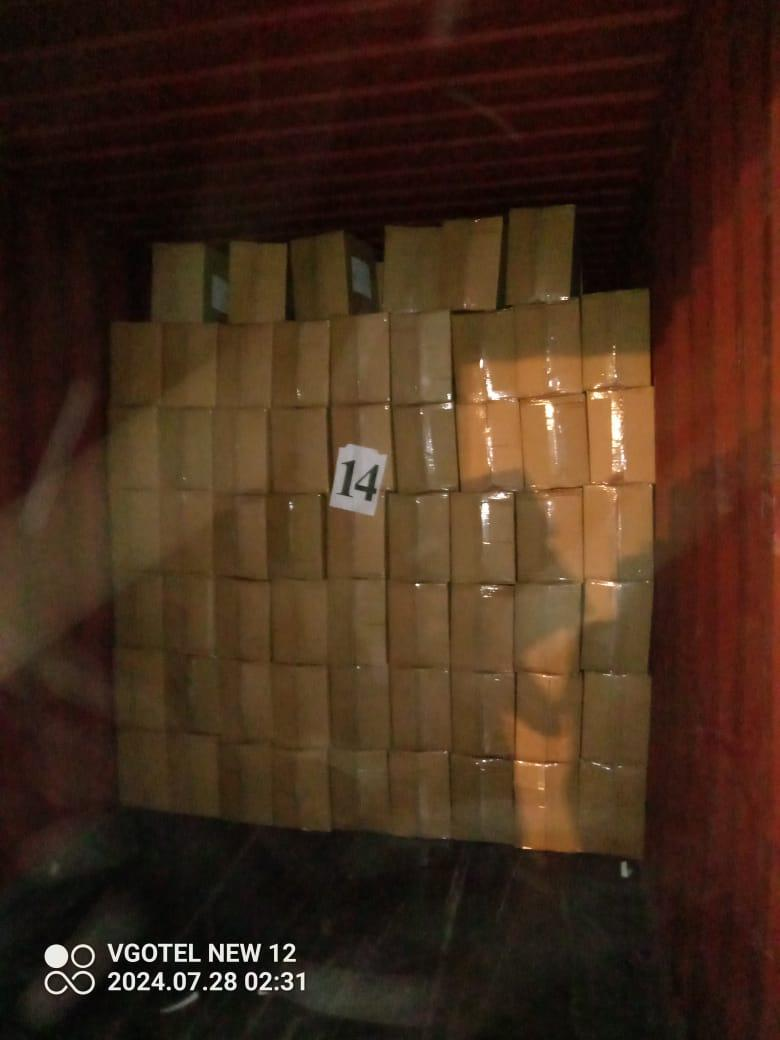carton: (290, 229, 373, 319), (580, 288, 650, 390), (582, 484, 654, 581), (519, 393, 590, 490), (585, 386, 655, 484), (506, 205, 575, 304), (514, 299, 583, 398), (581, 579, 653, 673), (578, 761, 646, 859), (580, 673, 650, 765), (514, 582, 583, 674), (454, 399, 522, 492), (450, 309, 517, 403), (516, 488, 583, 581), (515, 671, 583, 762), (449, 492, 516, 584), (389, 309, 452, 406), (391, 403, 458, 494), (440, 216, 504, 311), (514, 760, 578, 852), (331, 403, 396, 492), (450, 754, 514, 844), (450, 583, 514, 673), (329, 312, 391, 404), (450, 669, 514, 758), (387, 492, 450, 582), (388, 750, 451, 838), (387, 581, 450, 666), (329, 748, 392, 833), (326, 578, 386, 667), (329, 664, 391, 750), (389, 666, 451, 751), (270, 406, 330, 493), (382, 224, 442, 311), (326, 491, 385, 578), (266, 493, 325, 580), (272, 320, 331, 406), (227, 240, 287, 323), (211, 407, 268, 494), (270, 578, 327, 665), (272, 747, 331, 829), (216, 322, 272, 407), (162, 321, 217, 407), (212, 494, 267, 580), (219, 659, 274, 744), (215, 576, 270, 660), (165, 653, 221, 735), (159, 490, 213, 575), (109, 321, 163, 406), (273, 665, 328, 747), (158, 407, 212, 490), (106, 406, 159, 490), (113, 647, 166, 730), (163, 573, 216, 656), (167, 732, 220, 815), (151, 241, 205, 322), (116, 727, 169, 809), (220, 743, 273, 824), (110, 490, 160, 574), (114, 572, 164, 648)
